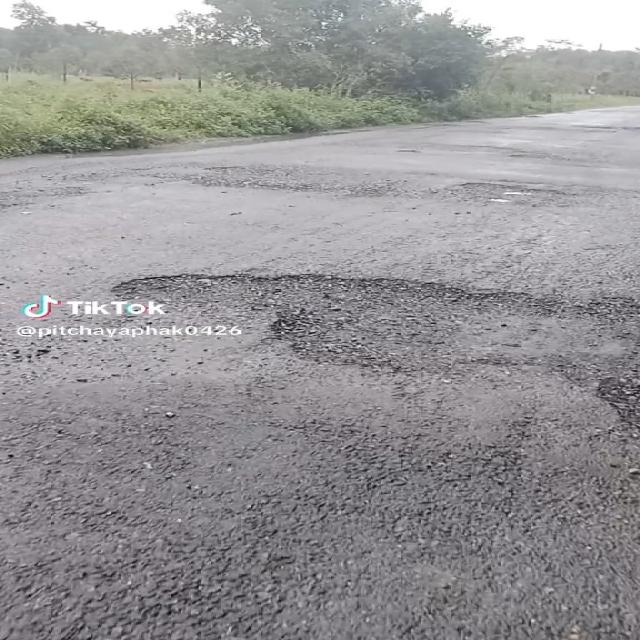Poth-hole: (108, 242, 640, 473)
